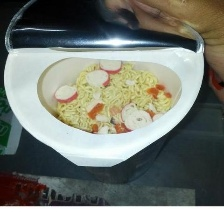paper_cup: (0, 0, 210, 188)
